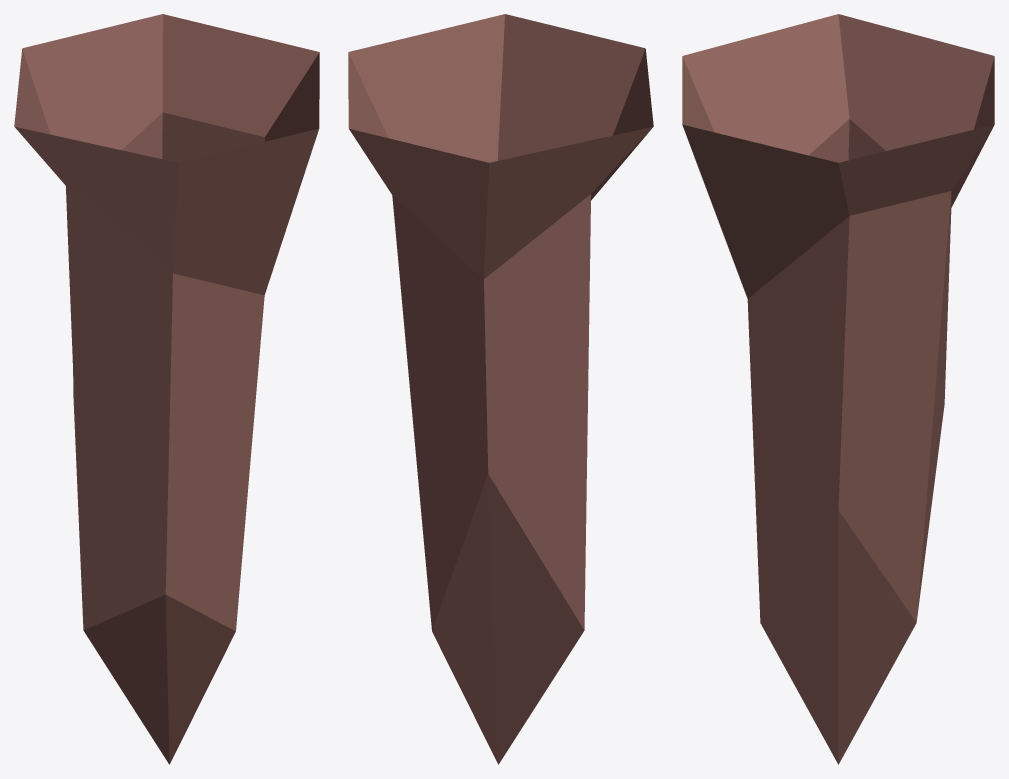
The model's file is Stalacmite-A04.fbx.
3 renders of one model, left to right at view 1: azimuth 30°, elevation 25°; view 2: azimuth 150°, elevation 25°; view 3: azimuth 270°, elevation 25°, orthographic.
Visible parts, largest first — view 1: Stalacmite-A04; view 2: Stalacmite-A04; view 3: Stalacmite-A04.
Boxes of the visible parts, x1,y1,x2,y2 form: Stalacmite-A04: (14, 14, 319, 764); Stalacmite-A04: (348, 14, 653, 764); Stalacmite-A04: (682, 14, 994, 764).
Size of the model in its own units: 101 by 213 by 89.41.
